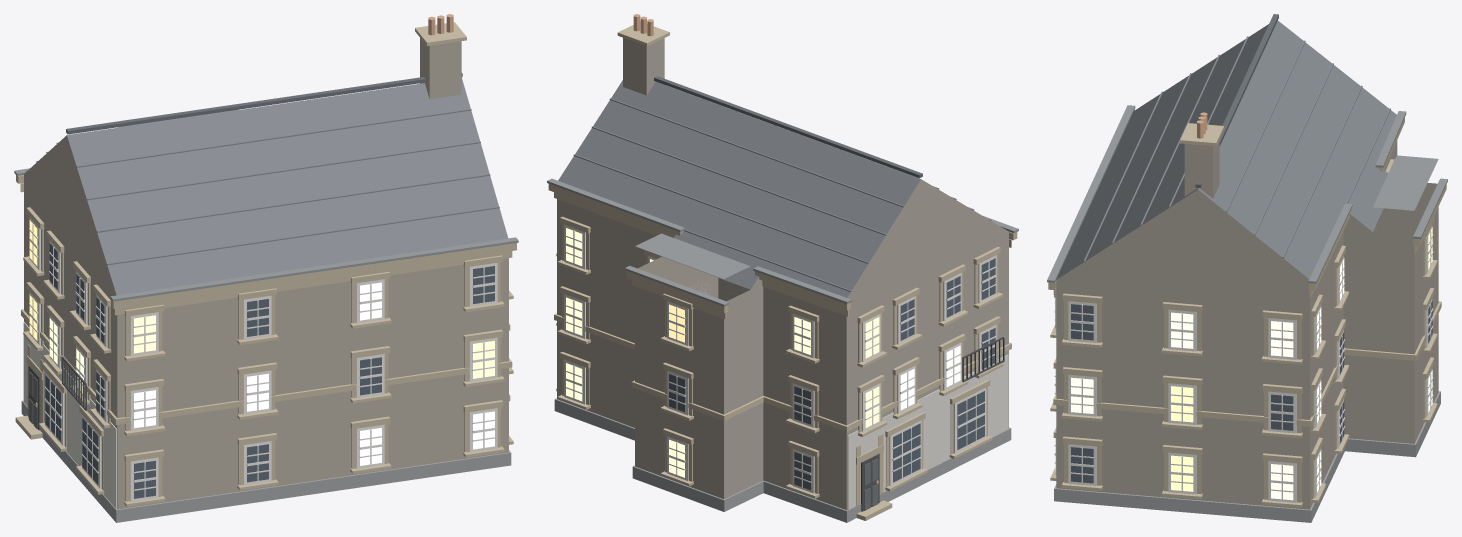
3 renders of one model, left to right at view 1: azimuth 30°, elevation 25°; view 2: azimuth 150°, elevation 25°; view 3: azimuth 270°, elevation 25°, orthographic. The views are drawn at different scales.
Visible parts, largest first — view 1: chim_stone, slate, ss_joint, windows, frame, plinth, slate_lt, string, lead, slate_dk, pipe; view 2: chim_stone, slate, ss_joint, windows, frame, plinth, string, lead, slate_lt, slate_dk, pipe, door_dark_p; view 3: chim_stone, slate, ss_joint, frame, windows, lead, plinth, slate_lt, slate_dk.
Part boxes in pixels (<box>): chim_stone: <box>24,38,508,509</box>; slate: <box>67,78,507,295</box>; ss_joint: <box>15,22,516,506</box>; windows: <box>29,220,494,498</box>; frame: <box>29,217,497,501</box>; plinth: <box>21,400,511,522</box>; slate_lt: <box>26,109,499,265</box>; string: <box>23,322,116,508</box>; lead: <box>14,109,518,301</box>; slate_dk: <box>66,73,462,134</box>; pipe: <box>62,356,86,410</box>; chim_stone: <box>557,37,1008,510</box>; slate: <box>558,80,920,297</box>; ss_joint: <box>548,21,1017,520</box>; windows: <box>566,228,995,490</box>; frame: <box>564,224,996,493</box>; plinth: <box>554,398,1011,522</box>; string: <box>847,354,1008,509</box>; lead: <box>547,178,1018,306</box>; slate_lt: <box>573,98,991,291</box>; slate_dk: <box>654,76,922,178</box>; pipe: <box>962,337,1004,382</box>; door_dark_p: <box>864,458,878,510</box>; chim_stone: <box>1056,140,1438,509</box>; slate: <box>1056,20,1396,279</box>; ss_joint: <box>1048,109,1446,507</box>; frame: <box>1054,225,1433,502</box>; windows: <box>1055,227,1432,500</box>; lead: <box>1047,105,1447,283</box>; plinth: <box>1054,391,1440,522</box>; slate_lt: <box>1083,36,1390,261</box>; slate_dk: <box>1195,14,1278,187</box>.
Size of the model in its own units: 15.59 by 13.98 by 13.17.
